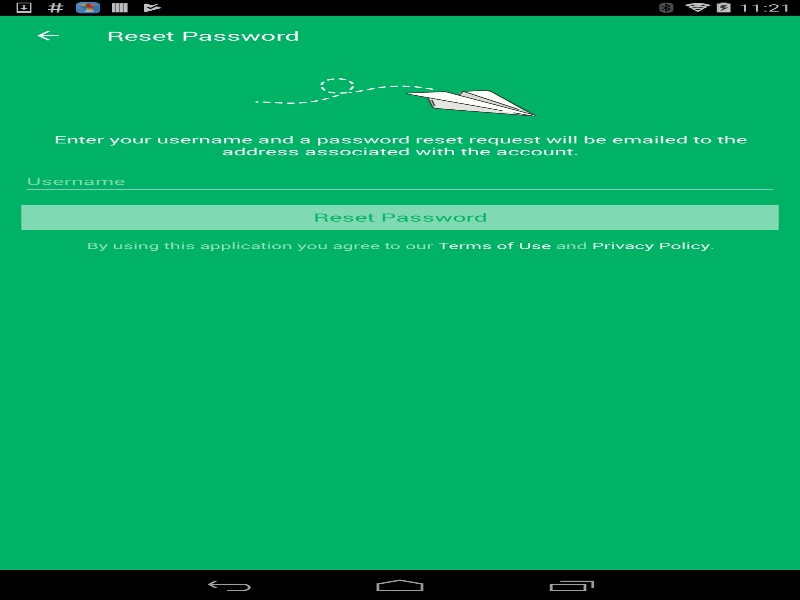Button: (21, 204, 778, 229), (10, 15, 85, 55)
Input: (21, 168, 778, 194)
